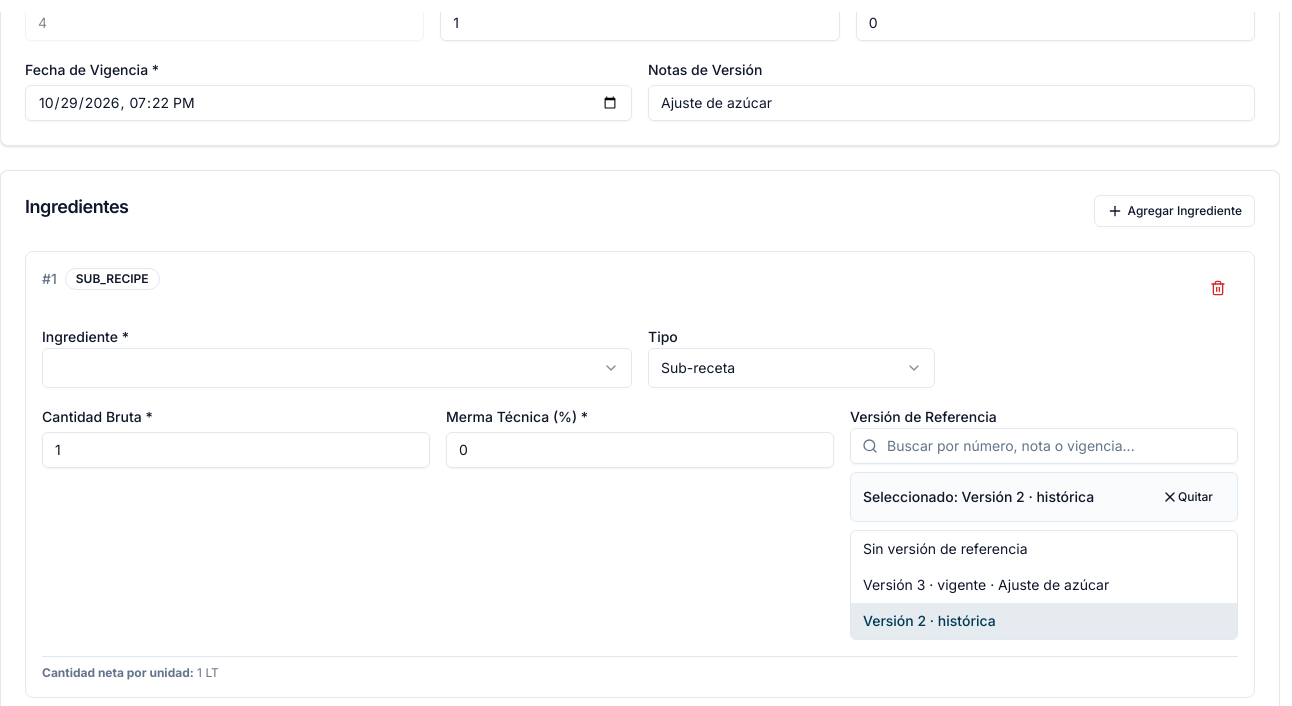
Scenario: RecipeForm reference-version selector (round-2 §17.6 S5) › choosing Sin versión de referencia stores an explicit null
(page scrolled)
Click the button "Quitar": (1187, 497) [1150,481,1225,513]
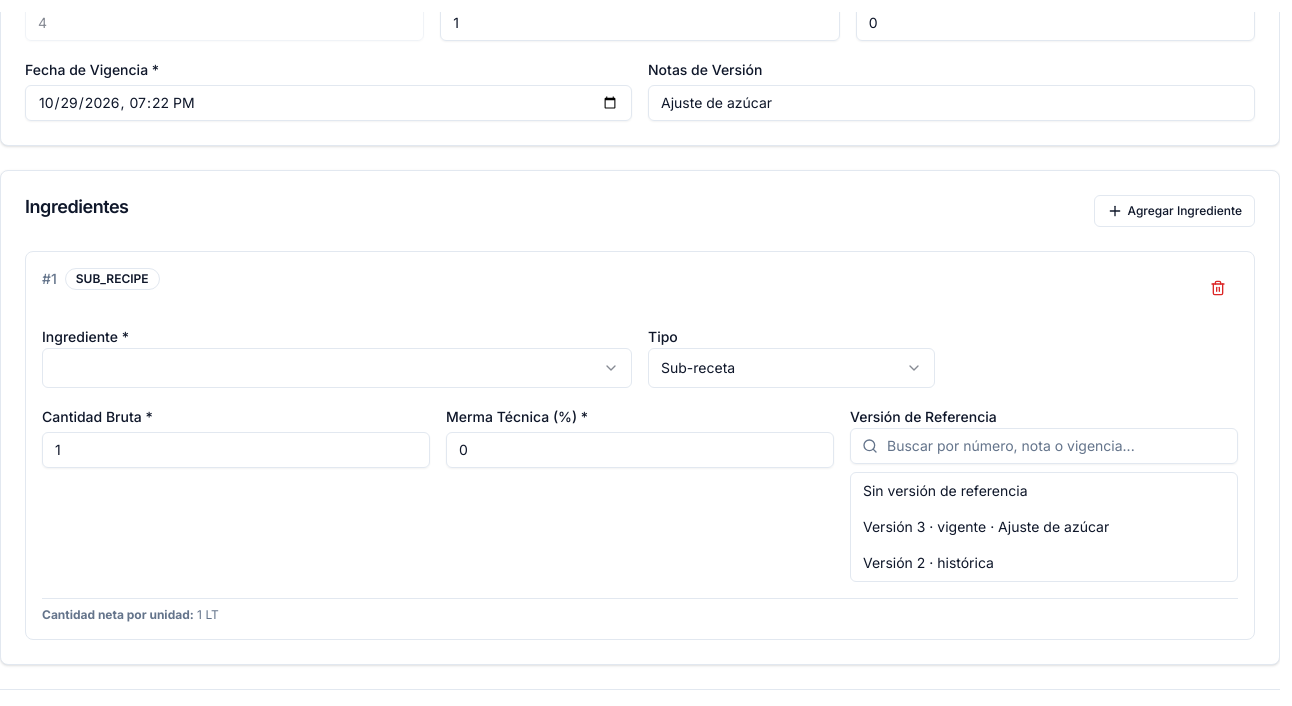
Check: the dropdown labelled "Versión de Referencia" is shown, box [850,428,1238,464]
Check: the text "Seleccionado: Versión 2 · histórica" is gone
